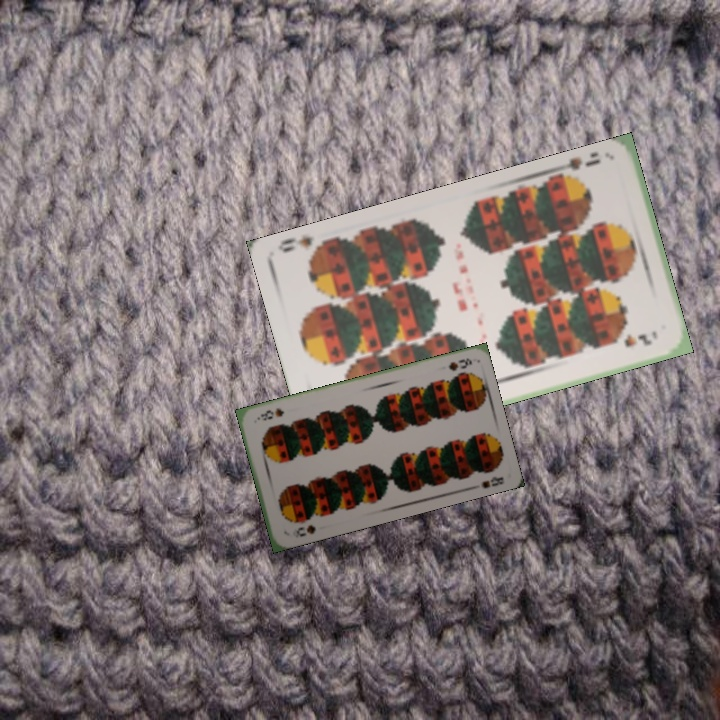S8: (288, 520, 318, 541), (444, 354, 475, 374)
S9: (552, 154, 604, 186)
